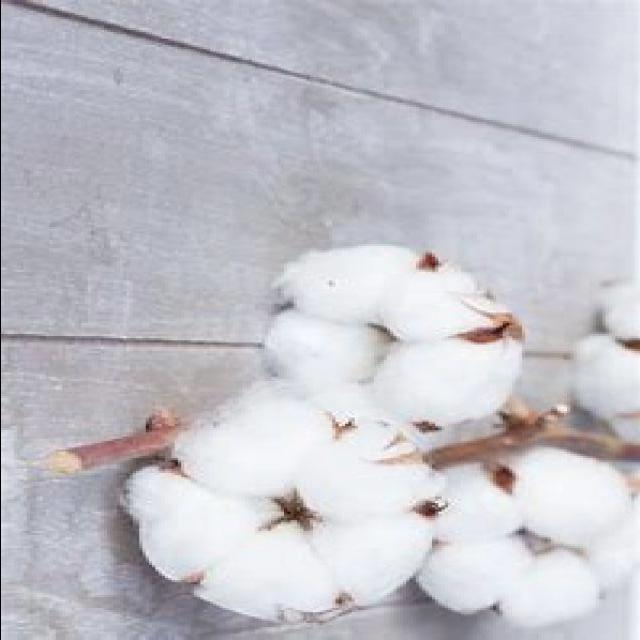Matured Cotton Boll: (116, 396, 458, 626), (245, 238, 529, 432), (417, 445, 638, 629)
